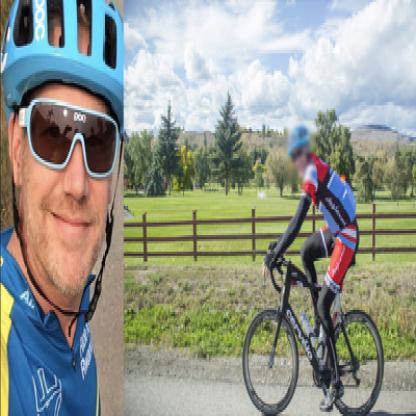Helmet: (1, 1, 124, 305), (283, 120, 313, 177)
